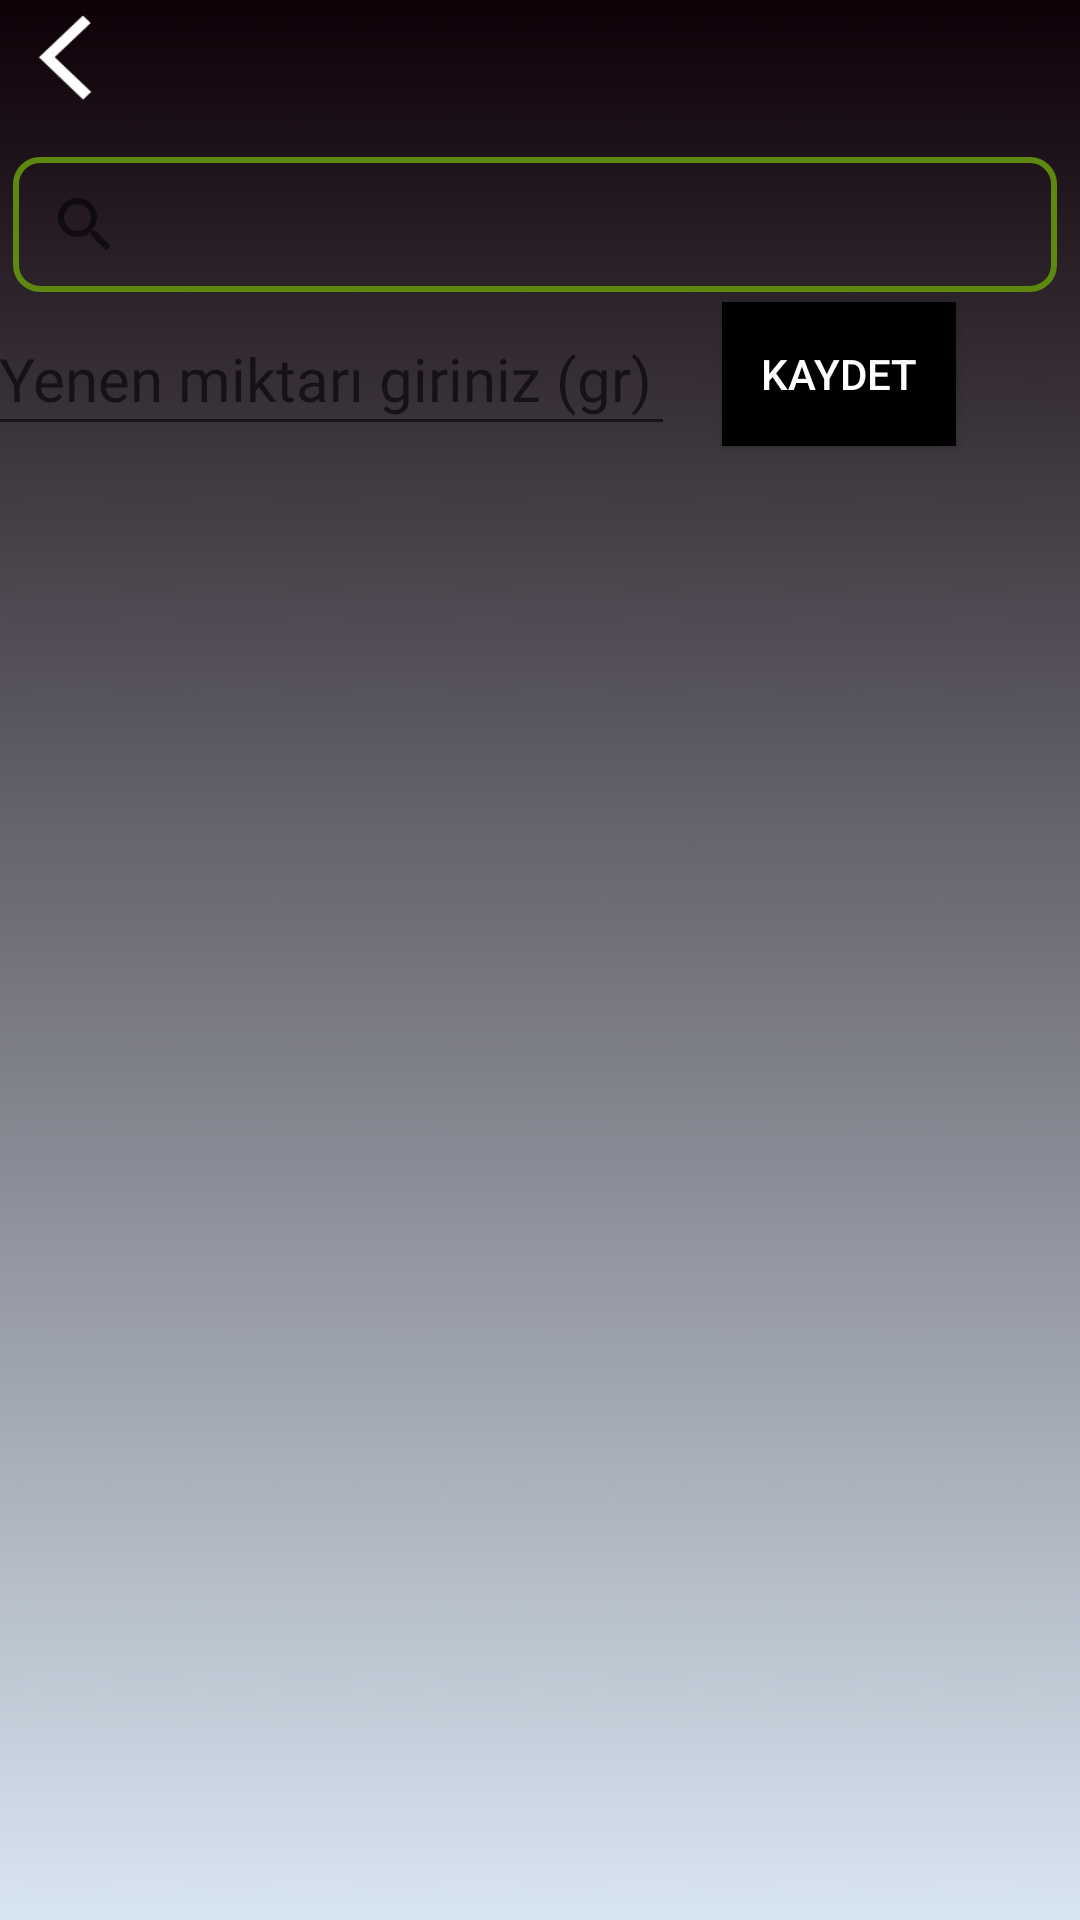

Locate icon controls on the screen. Image size 1080 x 1920, boxes as (x1, y1, x2, y2).
arrow: (38, 16, 92, 100)
